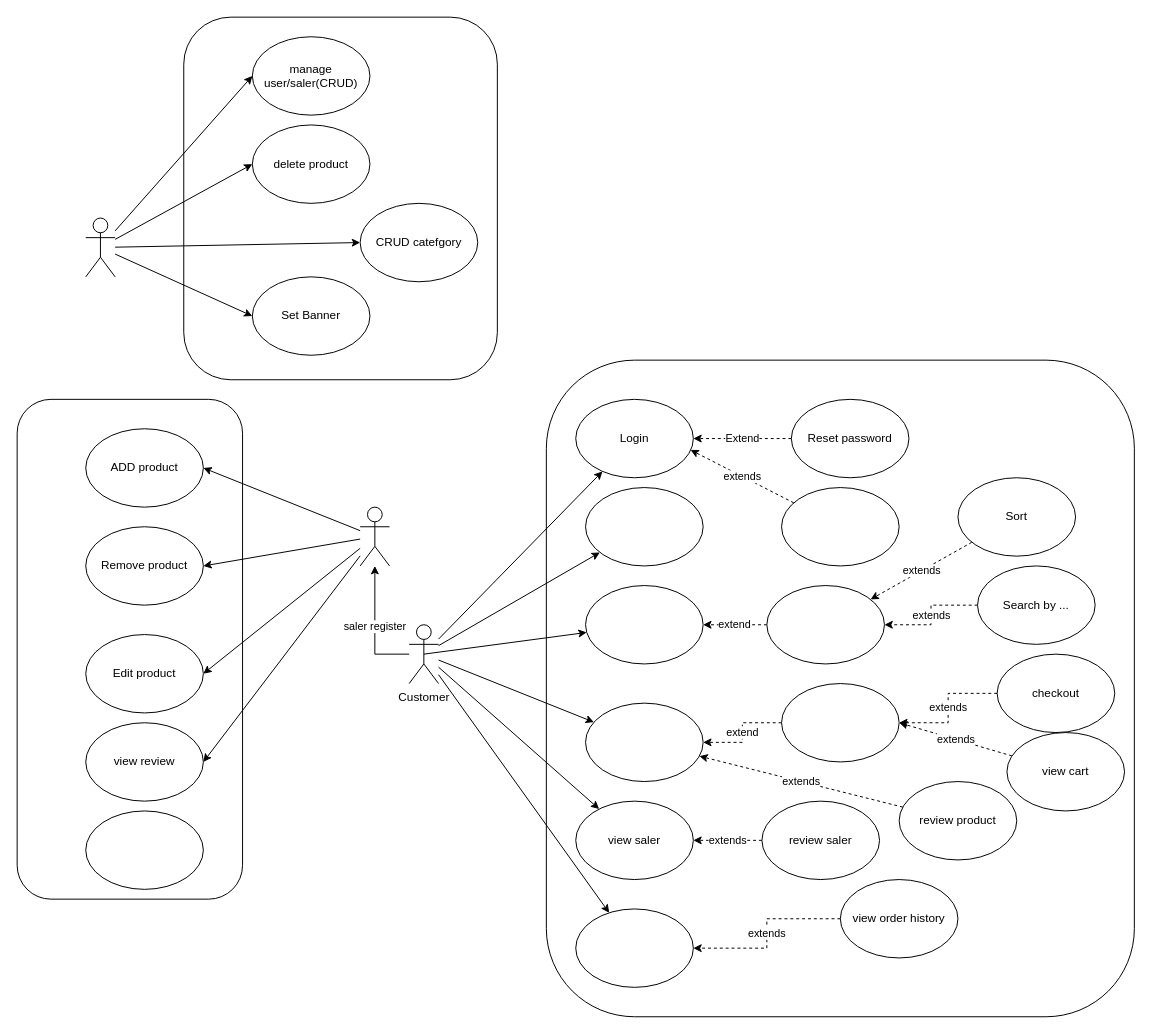
The diagram is 1152 pixels wide and 1034 high, and some of its shapes have lost their labels. Each missing label, with the box of its shape:
add to cart: (781, 683, 899, 762)
Admin: (85, 217, 115, 277)
Logout: (585, 487, 703, 566)
Register: (781, 487, 899, 566)
Saler: (359, 506, 390, 566)
Search product: (766, 585, 884, 664)
View homepage: (585, 585, 703, 664)
view order list: (85, 810, 203, 889)
view product: (585, 702, 703, 782)
view/edit profile: (575, 908, 693, 987)
